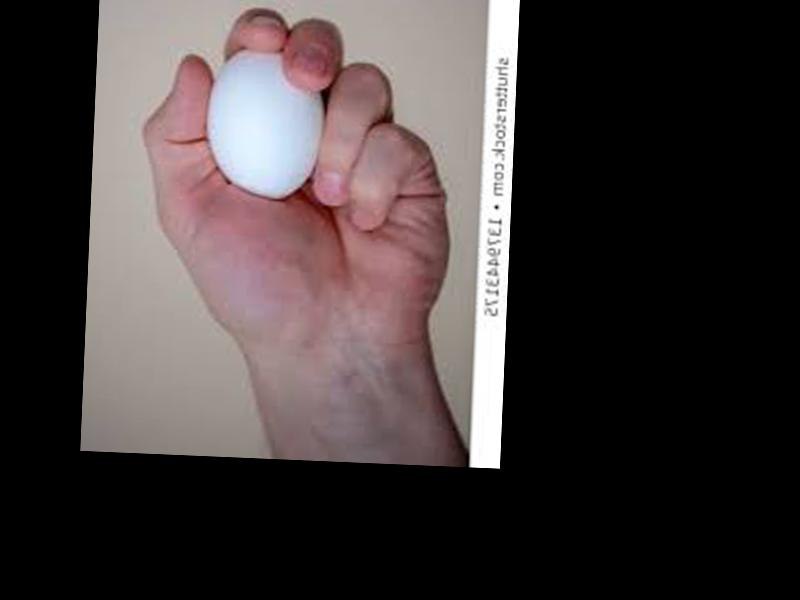Eggs: (204, 48, 325, 203)
